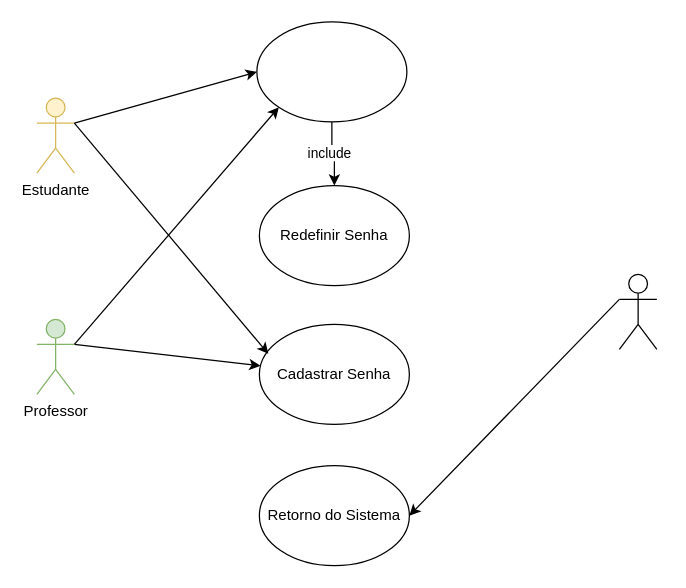
Some shapes in this 686 by 588 pixel diagram are drawn without their labels. The shapes that lost their labels are listed below. From the top down, each one's centre as x and y in pixels, then its label:
point (331, 71): Realizar Login
point (637, 311): Sistema
